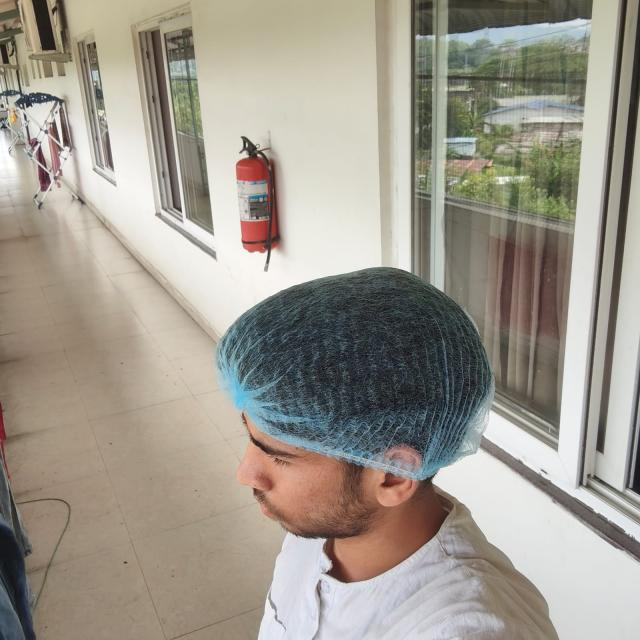hairnet-detection: (216, 266, 495, 494)
